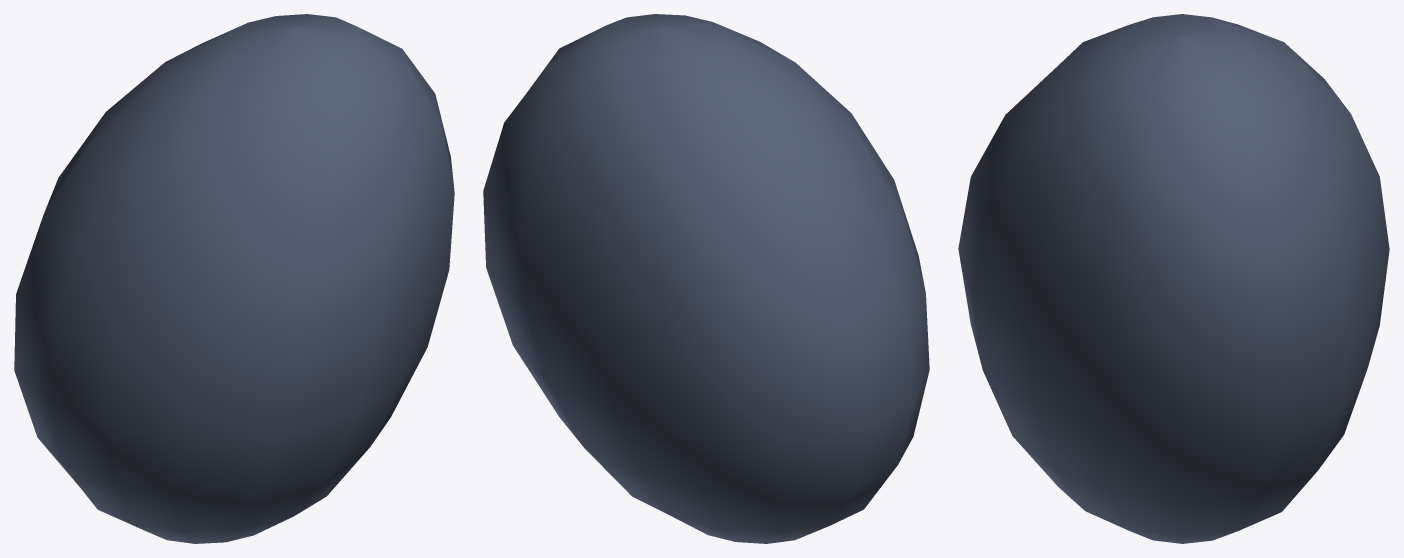
File: Spike.glb
The picture shows the model from 3 angles, left to right: view 1: azimuth 30°, elevation 25°; view 2: azimuth 150°, elevation 25°; view 3: azimuth 270°, elevation 25°; orthographic projection. The views are drawn at different scales.
Parts seen in each view (by area): view 1: lamplighter__Spike__horn; view 2: lamplighter__Spike__horn; view 3: lamplighter__Spike__horn.
Part boxes in pixels (x1,y1,x2,y2): lamplighter__Spike__horn: (14, 14, 454, 543); lamplighter__Spike__horn: (483, 14, 929, 543); lamplighter__Spike__horn: (958, 14, 1389, 543).
Bounding box in the file's own units: 0.3503 × 0.4 × 0.2924.
